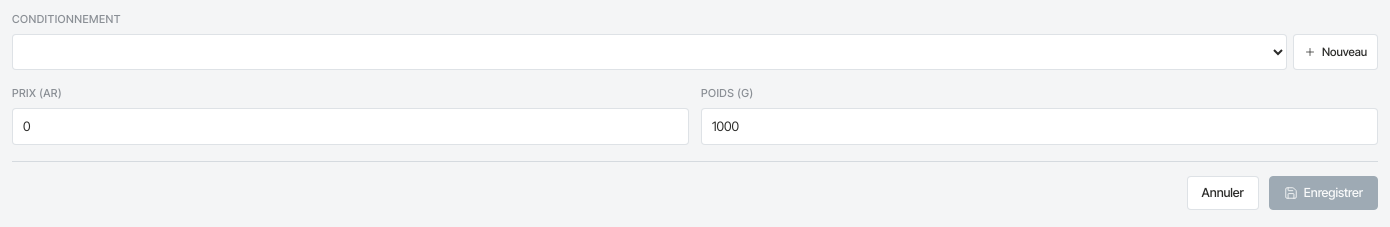
Test case: ErpProductPriceForm — création › désactive le bouton si le poids vaut 0
Type "38" into the number field named "amount" at x=350, y=126, box [12, 108, 689, 145]
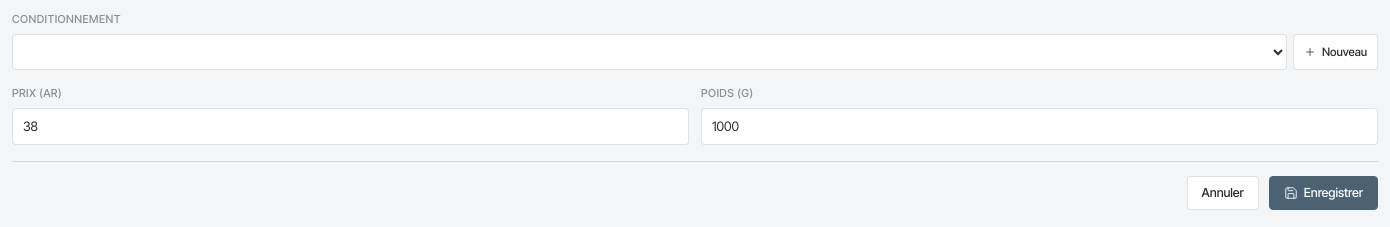
Type "0" into the number field named "weightGrams" at x=1040, y=126, box [701, 108, 1378, 145]
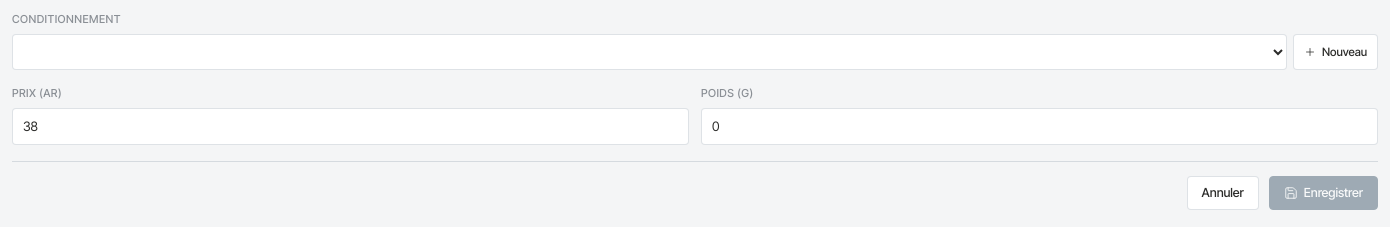
Now the submit button is disabled, box [1269, 176, 1378, 210]
